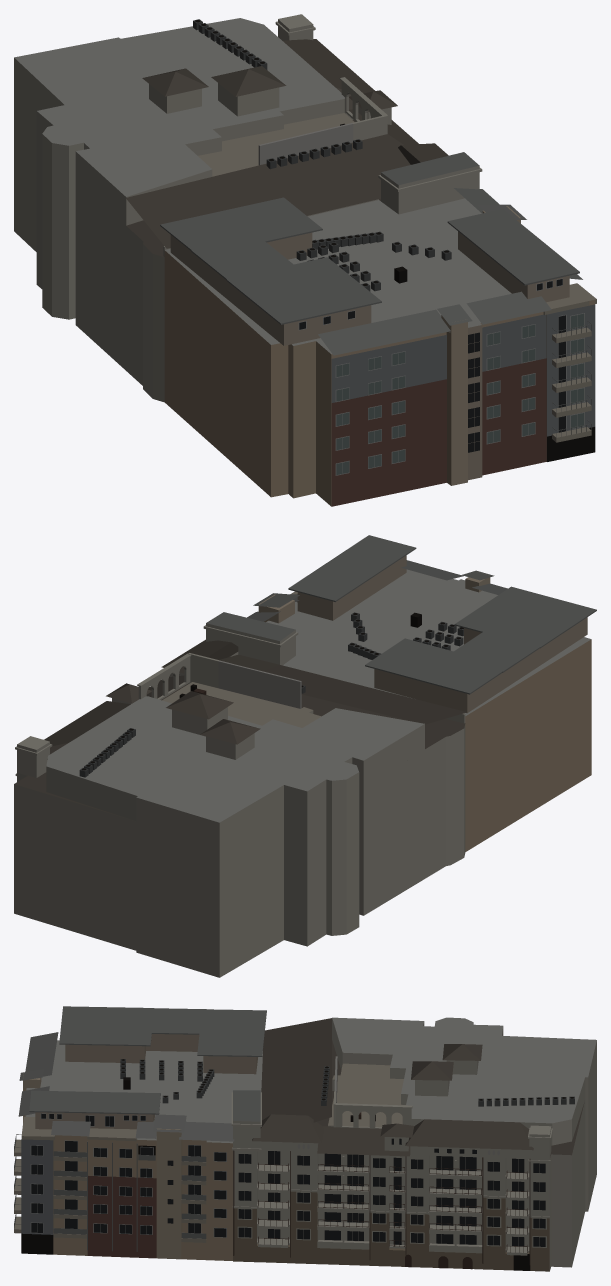
Rendered from texan-tower-look.glb.
3 views of the same model, one above another, from view 1: azimuth 30°, elevation 25°; view 2: azimuth 150°, elevation 25°; view 3: azimuth 270°, elevation 25° (orthographic). The views are drawn at different scales.
Parts seen in each view (by area): view 1: n_roof_white_membrane, n_wall_stucco_cream, n_wall_siding_tan, n_roof_metal_silver, n_roof_shingle_brown, n_wall_brick_red, n_wall_metal_grey, n_wall_stucco_tan, n_slab_tan, n_blind_pale, n_plant_grey, n_wall_block_tan (+4 smaller); view 2: n_wall_stucco_cream, n_roof_white_membrane, n_wall_siding_tan, n_roof_metal_silver, n_roof_shingle_brown, n_wall_stucco_tan, n_slab_tan, n_wall_white_weathered, n_plant_grey, n_wall_block_tan, n_street_storey_dark; view 3: n_wall_stucco_cream, n_roof_white_membrane, n_roof_metal_silver, n_roof_shingle_brown, n_glass_window, n_wall_stone_rubble, n_wall_siding_tan, n_slab_tan, n_wall_brick_red, n_wall_stucco_tan, n_paint_brown, n_wall_block_tan (+5 smaller).
Boxes of the visible parts, bbox=[...] form: n_roof_white_membrane: bbox=[14, 18, 511, 354]; n_wall_stucco_cream: bbox=[14, 14, 482, 402]; n_wall_siding_tan: bbox=[164, 250, 595, 506]; n_roof_metal_silver: bbox=[160, 152, 582, 355]; n_roof_shingle_brown: bbox=[126, 39, 448, 256]; n_wall_brick_red: bbox=[331, 358, 546, 506]; n_wall_metal_grey: bbox=[331, 304, 595, 436]; n_wall_stucco_tan: bbox=[170, 231, 569, 480]; n_slab_tan: bbox=[198, 113, 596, 442]; n_blind_pale: bbox=[336, 313, 584, 474]; n_plant_grey: bbox=[193, 19, 451, 291]; n_wall_block_tan: bbox=[441, 206, 520, 485]; n_wall_stucco_cream: bbox=[14, 623, 465, 977]; n_roof_white_membrane: bbox=[46, 569, 590, 822]; n_wall_siding_tan: bbox=[264, 620, 591, 851]; n_roof_metal_silver: bbox=[206, 535, 596, 694]; n_roof_shingle_brown: bbox=[14, 639, 466, 820]; n_wall_stucco_tan: bbox=[297, 555, 587, 713]; n_slab_tan: bbox=[162, 591, 321, 727]; n_wall_white_weathered: bbox=[218, 660, 301, 708]; n_plant_grey: bbox=[79, 612, 463, 777]; n_wall_block_tan: bbox=[258, 577, 490, 623]; n_street_storey_dark: bbox=[82, 612, 463, 770]; n_wall_stucco_cream: bbox=[231, 1018, 596, 1271]; n_roof_white_membrane: bbox=[25, 1017, 596, 1143]; n_roof_metal_silver: bbox=[18, 1006, 266, 1141]; n_roof_shingle_brown: bbox=[252, 1018, 584, 1157]; n_glass_window: bbox=[31, 1113, 545, 1246]; n_wall_stone_rubble: bbox=[233, 1191, 549, 1271]; n_wall_siding_tan: bbox=[23, 1088, 232, 1260]; n_slab_tan: bbox=[14, 1063, 405, 1242]; n_wall_brick_red: bbox=[87, 1176, 156, 1258]; n_wall_stucco_tan: bbox=[26, 1034, 257, 1129]; n_paint_brown: bbox=[233, 1112, 530, 1269]; n_wall_block_tan: bbox=[23, 1073, 181, 1259].
Bounding box in the file's own units: 45.99 × 26.9 × 87.98.
